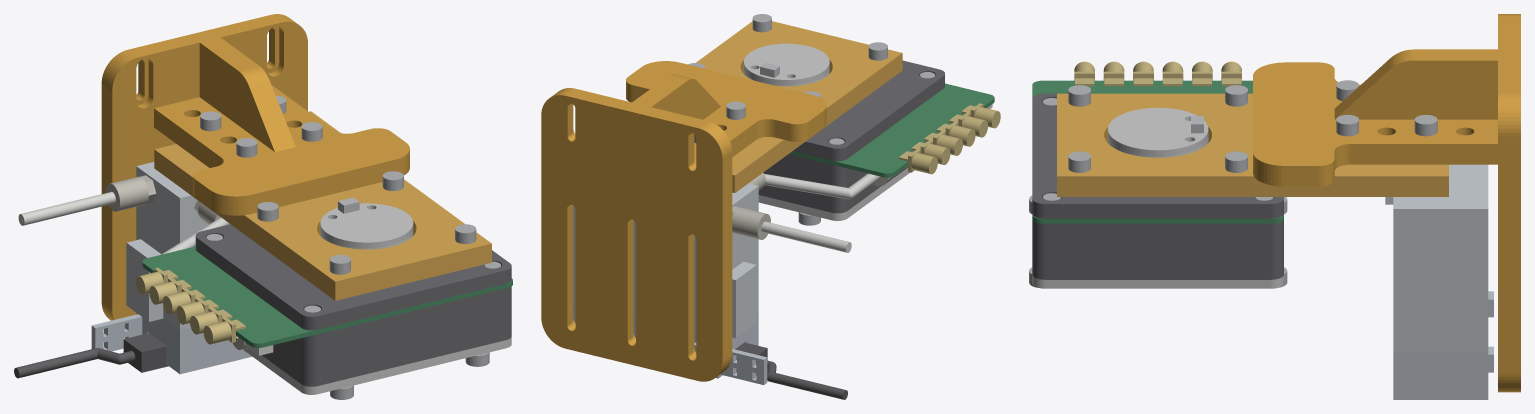
3 renders of one model, left to right at view 1: azimuth 30°, elevation 25°; view 2: azimuth 150°, elevation 25°; view 3: azimuth 270°, elevation 25°, orthographic. The views are drawn at different scales.
Parts seen in each view (by area): view 1: Grace 2025 앵글 브래킷 "angle bracket for Ramen holder.STEP" (형상 , Grace 새 세로판 60x120x7 (재출력, 레진 가정), Ø4.5 x4 48x48, Ø33, 배기 블록, 셀 몸체 v6.2 Al 6061 흑색 아노다이징 80x77x19 R4 (공동 69x62 깊이 9, 바닥 평평, 뒷판 V62 Al 6061 흑색 아노다이징 80x77x5 R4, M4 Ø4.5 x4, M3 카운터보어 x4,, 뒷면 PCB v6.2 표준 FR-4 1.6: 외곽 X −65…35 x Z ±38.5 R3, 창 Ø16, M4, [배기 블록 v2] 배기 센서 블록 본체 PETG 60x29x48.5 (가스 몸 17.5 + 센서 칸 31,, [배기 블록 v2] 덮개 PETG 60x29x16 (판 2 + Pico 트레이 14): Pico 보스 4, , SMA 엣지 잭 x6 Samtec SMA-J-P-H-ST-EM1 (CH1–CH6, Z 피치 9; 폭 6.35, 퍽 Al 방열 원판 Ø30.8x2 (가정, PETG 벽 끝에 2액형 에폭시), 나사 공구 구멍 Ø3.2 x2, [배기 블록 v2] USB 케이블 (노트북으로, 타이로 선반에 고정; 노트북은 허치 안 가능), 뚜껑 Al 6061 흑색 아노다이징 (마스킹 없음, 필름 접착면 포함): 판 80x77x3 (Y -12…-9, M4x18 렌치볼트 x4 (Grace 판 7 + 뒷판 5 + PCB 1.6 → 몸체 M4 탭, 물림 4.4) (+5 smaller); view 2: Grace 2025 앵글 브래킷 "angle bracket for Ramen holder.STEP" (형상 , Grace 새 세로판 60x120x7 (재출력, 레진 가정), Ø4.5 x4 48x48, Ø33, 배기 블록, 뒷판 V62 Al 6061 흑색 아노다이징 80x77x5 R4, M4 Ø4.5 x4, M3 카운터보어 x4,, 뒷면 PCB v6.2 표준 FR-4 1.6: 외곽 X −65…35 x Z ±38.5 R3, 창 Ø16, M4, [배기 블록 v2] 배기 센서 블록 본체 PETG 60x29x48.5 (가스 몸 17.5 + 센서 칸 31,, 셀 몸체 v6.2 Al 6061 흑색 아노다이징 80x77x19 R4 (공동 69x62 깊이 9, 바닥 평평, SMA 엣지 잭 x6 Samtec SMA-J-P-H-ST-EM1 (CH1–CH6, Z 피치 9; 폭 6.35, 퍽 Al 방열 원판 Ø30.8x2 (가정, PETG 벽 끝에 2액형 에폭시), 나사 공구 구멍 Ø3.2 x2, [배기 블록 v2] 덮개 PETG 60x29x16 (판 2 + Pico 트레이 14): Pico 보스 4, , PU 관 Ø4 (셀 출구 엘보 → 배기 블록 v2 입구, 블록이 뒤로 6.6), [배기 블록 v2] USB 케이블 (노트북으로, 타이로 선반에 고정; 노트북은 허치 안 가능), 뚜껑 Al 6061 흑색 아노다이징 (마스킹 없음, 필름 접착면 포함): 판 80x77x3 (Y -12…-9 (+3 smaller); view 3: Grace 2025 앵글 브래킷 "angle bracket for Ramen holder.STEP" (형상 , Grace 새 세로판 60x120x7 (재출력, 레진 가정), Ø4.5 x4 48x48, Ø33, 배기 블록, [배기 블록 v2] 배기 센서 블록 본체 PETG 60x29x48.5 (가스 몸 17.5 + 센서 칸 31,, 셀 몸체 v6.2 Al 6061 흑색 아노다이징 80x77x19 R4 (공동 69x62 깊이 9, 바닥 평평, 뒷판 V62 Al 6061 흑색 아노다이징 80x77x5 R4, M4 Ø4.5 x4, M3 카운터보어 x4,, [배기 블록 v2] 덮개 PETG 60x29x16 (판 2 + Pico 트레이 14): Pico 보스 4, , 퍽 Al 방열 원판 Ø30.8x2 (가정, PETG 벽 끝에 2액형 에폭시), 나사 공구 구멍 Ø3.2 x2, 뒷면 PCB v6.2 표준 FR-4 1.6: 외곽 X −65…35 x Z ±38.5 R3, 창 Ø16, M4, SMA 엣지 잭 x6 Samtec SMA-J-P-H-ST-EM1 (CH1–CH6, Z 피치 9; 폭 6.35, 뚜껑 Al 6061 흑색 아노다이징 (마스킹 없음, 필름 접착면 포함): 판 80x77x3 (Y -12…-9, M4x18 렌치볼트 x4 (Grace 판 7 + 뒷판 5 + PCB 1.6 → 몸체 M4 탭, 물림 4.4), M4x16 볼트 + 너트 x4 (판 아래 구멍 ↔ 브래킷 세움판).
Boxes of the visible parts, box(x1,y1,x2,y2) form: Grace 2025 앵글 브래킷 "angle bracket for Ramen holder.STEP" (형상 : box(101, 14, 409, 327); Grace 새 세로판 60x120x7 (재출력, 레진 가정), Ø4.5 x4 48x48, Ø33, 배기 블록: box(154, 111, 491, 300); 셀 몸체 v6.2 Al 6061 흑색 아노다이징 80x77x19 R4 (공동 69x62 깊이 9, 바닥 평평: box(262, 286, 511, 386); 뒷판 V62 Al 6061 흑색 아노다이징 80x77x5 R4, M4 Ø4.5 x4, M3 카운터보어 x4,: box(195, 224, 511, 330); 뒷면 PCB v6.2 표준 FR-4 1.6: 외곽 X −65…35 x Z ±38.5 R3, 창 Ø16, M4: box(142, 246, 512, 347); [배기 블록 v2] 배기 센서 블록 본체 PETG 60x29x48.5 (가스 몸 17.5 + 센서 칸 31,: box(126, 162, 208, 330); [배기 블록 v2] 덮개 PETG 60x29x16 (판 2 + Pico 트레이 14): Pico 보스 4, : box(91, 313, 251, 374); SMA 엣지 잭 x6 Samtec SMA-J-P-H-ST-EM1 (CH1–CH6, Z 피치 9; 폭 6.35: box(135, 268, 245, 344); 퍽 Al 방열 원판 Ø30.8x2 (가정, PETG 벽 끝에 2액형 에폭시), 나사 공구 구멍 Ø3.2 x2: box(320, 203, 413, 247); [배기 블록 v2] USB 케이블 (노트북으로, 타이로 선반에 고정; 노트북은 허치 안 가능): box(14, 333, 168, 378); 뚜껑 Al 6061 흑색 아노다이징 (마스킹 없음, 필름 접착면 포함): 판 80x77x3 (Y -12…-9: box(243, 337, 511, 394); M4x18 렌치볼트 x4 (Grace 판 7 + 뒷판 5 + PCB 1.6 → 몸체 M4 탭, 물림 4.4): box(257, 171, 476, 274); Grace 2025 앵글 브래킷 "angle bracket for Ramen holder.STEP" (형상 : box(541, 61, 826, 381); Grace 새 세로판 60x120x7 (재출력, 레진 가정), Ø4.5 x4 48x48, Ø33, 배기 블록: box(696, 21, 902, 192); 뒷판 V62 Al 6061 흑색 아노다이징 80x77x5 R4, M4 Ø4.5 x4, M3 카운터보어 x4,: box(793, 60, 944, 161); 뒷면 PCB v6.2 표준 FR-4 1.6: 외곽 X −65…35 x Z ±38.5 R3, 창 Ø16, M4: box(789, 83, 994, 177); [배기 블록 v2] 배기 센서 블록 본체 PETG 60x29x48.5 (가스 몸 17.5 + 센서 칸 31,: box(573, 183, 758, 338); 셀 몸체 v6.2 Al 6061 흑색 아노다이징 80x77x19 R4 (공동 69x62 깊이 9, 바닥 평평: box(758, 154, 880, 213); SMA 엣지 잭 x6 Samtec SMA-J-P-H-ST-EM1 (CH1–CH6, Z 피치 9; 폭 6.35: box(898, 103, 1000, 174); 퍽 Al 방열 원판 Ø30.8x2 (가정, PETG 벽 끝에 2액형 에폭시), 나사 공구 구멍 Ø3.2 x2: box(743, 43, 829, 84); [배기 블록 v2] 덮개 PETG 60x29x16 (판 2 + Pico 트레이 14): Pico 보스 4, : box(573, 303, 767, 384); PU 관 Ø4 (셀 출구 엘보 → 배기 블록 v2 입구, 블록이 뒤로 6.6): box(764, 173, 880, 199); [배기 블록 v2] USB 케이블 (노트북으로, 타이로 선반에 고정; 노트북은 허치 안 가능): box(735, 342, 847, 399); 뚜껑 Al 6061 흑색 아노다이징 (마스킹 없음, 필름 접착면 포함): 판 80x77x3 (Y -12…-9: box(758, 168, 909, 220); Grace 2025 앵글 브래킷 "angle bracket for Ramen holder.STEP" (형상 : box(1253, 14, 1520, 392); Grace 새 세로판 60x120x7 (재출력, 레진 가정), Ø4.5 x4 48x48, Ø33, 배기 블록: box(1057, 93, 1448, 196); [배기 블록 v2] 배기 센서 블록 본체 PETG 60x29x48.5 (가스 몸 17.5 + 센서 칸 31,: box(1385, 164, 1488, 352); 셀 몸체 v6.2 Al 6061 흑색 아노다이징 80x77x19 R4 (공동 69x62 깊이 9, 바닥 평평: box(1032, 220, 1283, 279); 뒷판 V62 Al 6061 흑색 아노다이징 80x77x5 R4, M4 Ø4.5 x4, M3 카운터보어 x4,: box(1032, 93, 1283, 218); [배기 블록 v2] 덮개 PETG 60x29x16 (판 2 + Pico 트레이 14): Pico 보스 4, : box(1393, 291, 1493, 399); 퍽 Al 방열 원판 Ø30.8x2 (가정, PETG 벽 끝에 2액형 에폭시), 나사 공구 구멍 Ø3.2 x2: box(1108, 107, 1208, 156); 뒷면 PCB v6.2 표준 FR-4 1.6: 외곽 X −65…35 x Z ±38.5 R3, 창 Ø16, M4: box(1032, 80, 1283, 223); SMA 엣지 잭 x6 Samtec SMA-J-P-H-ST-EM1 (CH1–CH6, Z 피치 9; 폭 6.35: box(1074, 61, 1241, 86); 뚜껑 Al 6061 흑색 아노다이징 (마스킹 없음, 필름 접착면 포함): 판 80x77x3 (Y -12…-9: box(1032, 275, 1283, 288); M4x18 렌치볼트 x4 (Grace 판 7 + 뒷판 5 + PCB 1.6 → 몸체 M4 탭, 물림 4.4): box(1068, 85, 1247, 172); M4x16 볼트 + 너트 x4 (판 아래 구멍 ↔ 브래킷 세움판): box(1336, 80, 1437, 136).
Bounding box in the file's own units: 117 × 104 × 150.
